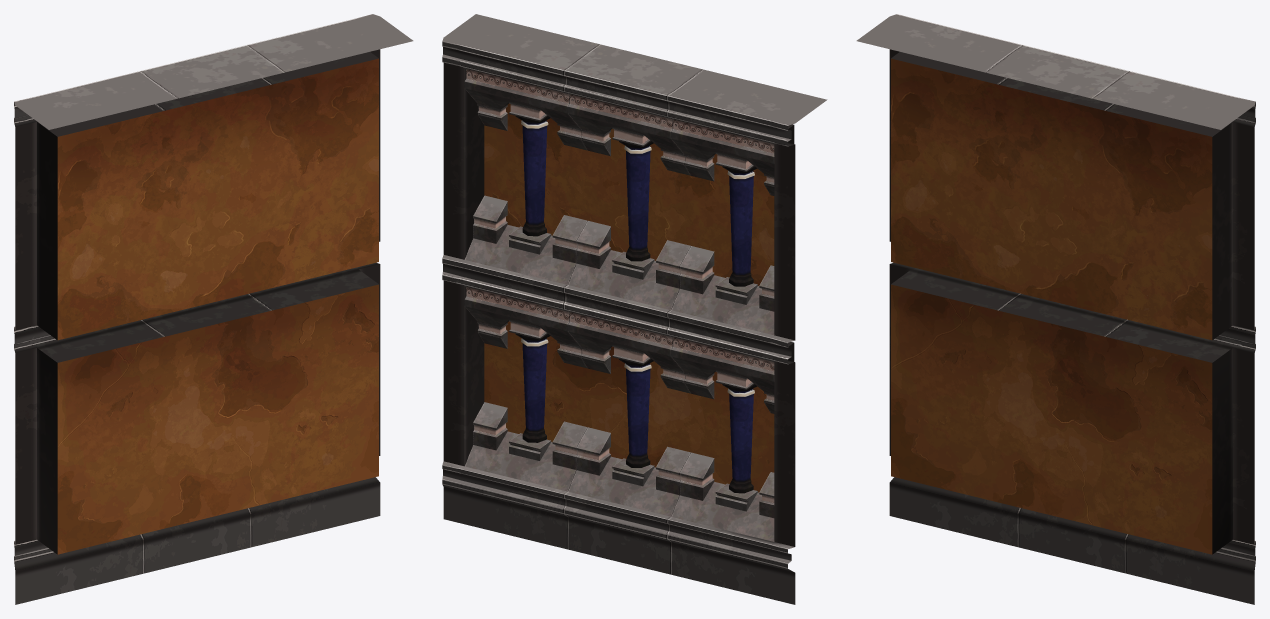
The model's file is em_wall_minotaur.fbx.
The picture shows the model from 3 angles, left to right: view 1: azimuth 30°, elevation 25°; view 2: azimuth 150°, elevation 25°; view 3: azimuth 330°, elevation 25°; orthographic projection. The views are drawn at different scales.
Visible parts, largest first — view 1: em_wall_minotaur; view 2: em_wall_minotaur; view 3: em_wall_minotaur.
Part boxes in pixels (<box>): em_wall_minotaur: <box>14,14,413,604</box>; em_wall_minotaur: <box>442,14,827,604</box>; em_wall_minotaur: <box>856,14,1255,604</box>.
Size of the model in its own units: 3000 by 3925 by 540.
